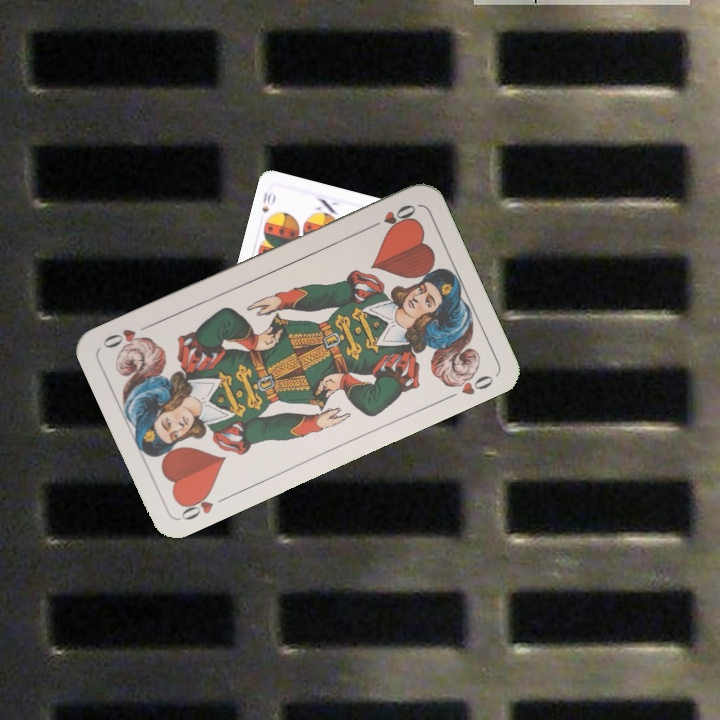HO: (175, 486, 232, 523), (364, 200, 419, 233)
S10: (257, 188, 278, 215)
